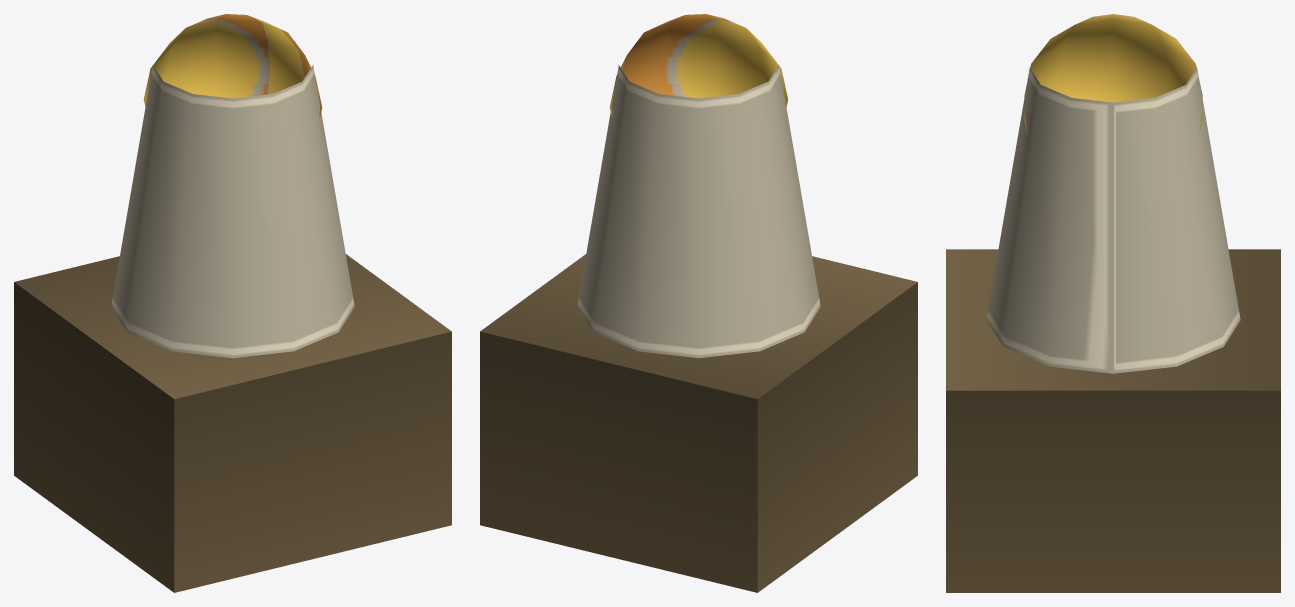
Rendered from reliquary_shadowbox.glb.
The picture shows the model from 3 angles, left to right: view 1: azimuth 30°, elevation 25°; view 2: azimuth 150°, elevation 25°; view 3: azimuth 270°, elevation 25°; orthographic projection. The views are drawn at different scales.
Parts seen in each view (by area): view 1: reliquary_shadowbox; view 2: reliquary_shadowbox; view 3: reliquary_shadowbox.
Boxes of the visible parts, x1,y1,x2,y2 form: reliquary_shadowbox: [14, 14, 451, 592]; reliquary_shadowbox: [480, 14, 917, 592]; reliquary_shadowbox: [946, 14, 1280, 592].
Bounding box in the file's own units: 0.9 × 1.48 × 0.9.
Materials: 1 (1 with a texture image).
